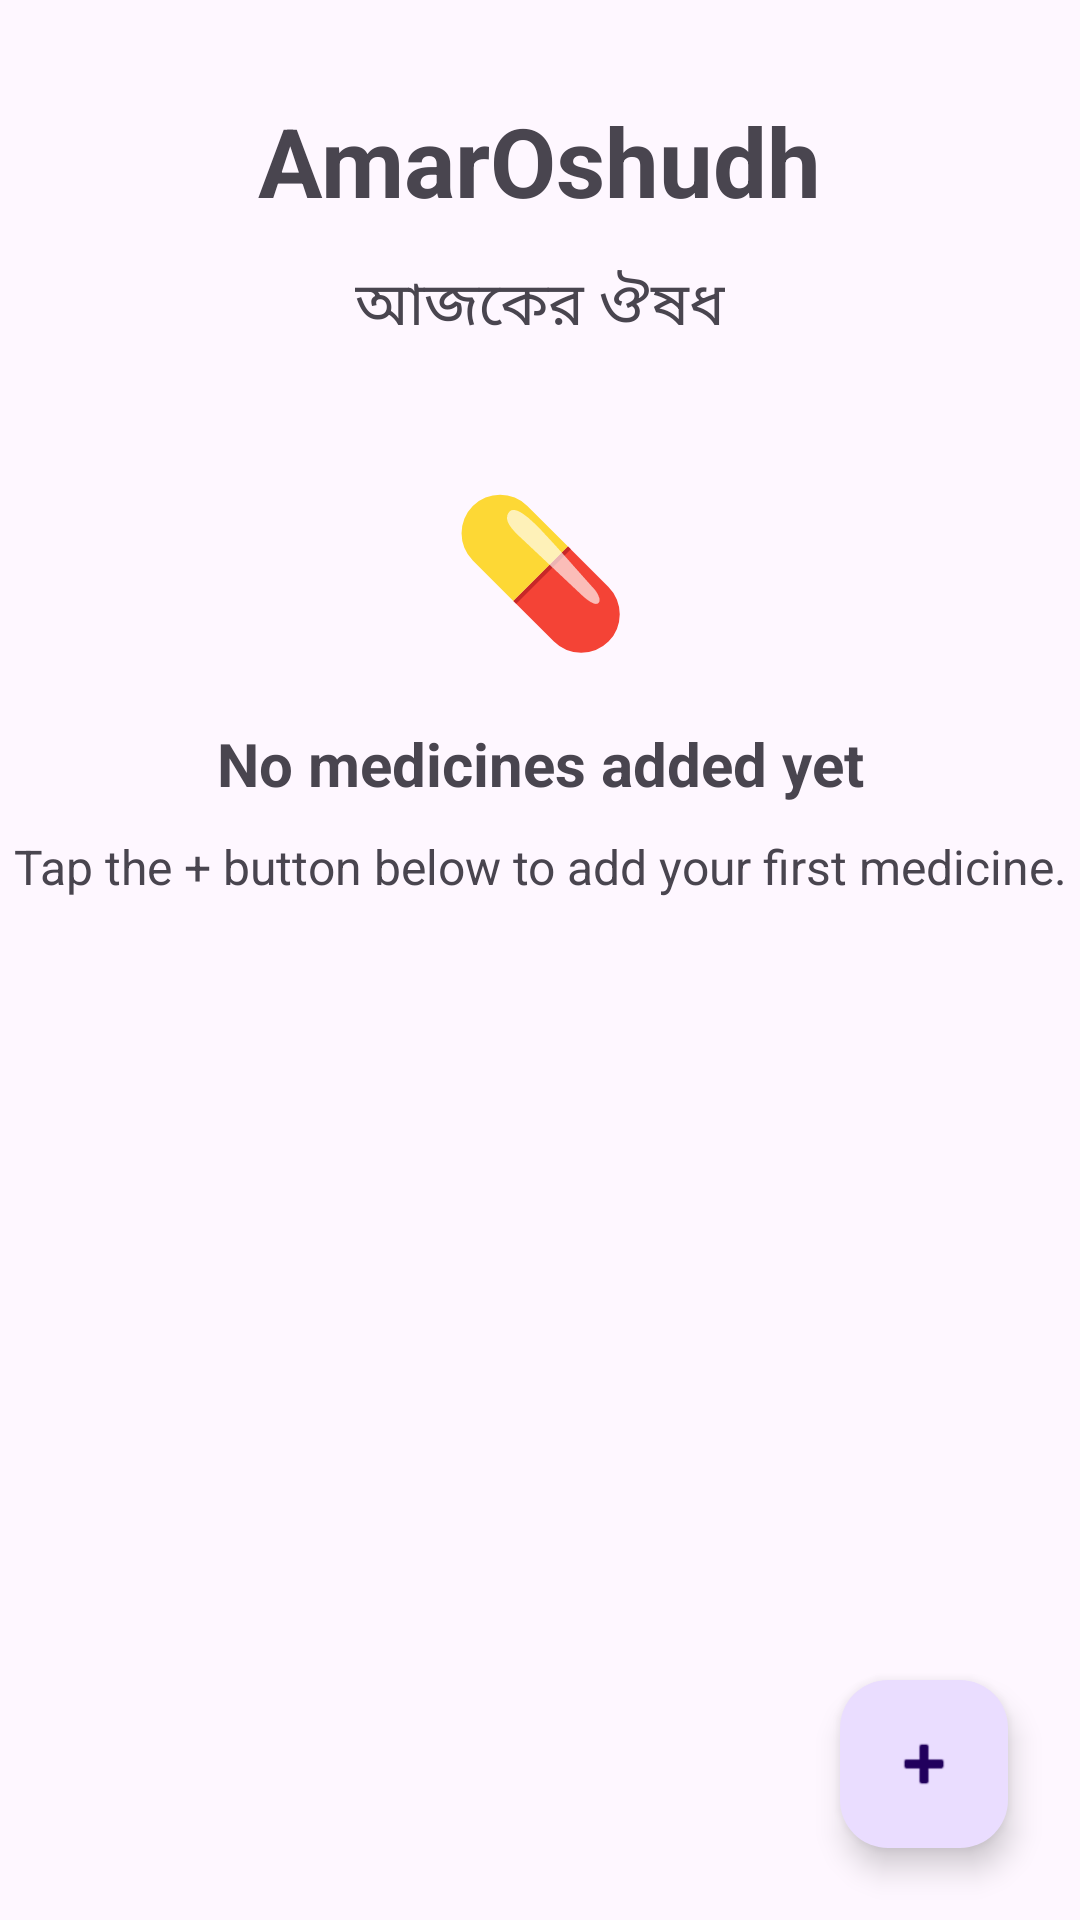

Screen size 1080 × 1920. Icon name, then its box in pixels as BBox(x1, y1, x2, y2):
Add Medicine: BBox(840, 1680, 1008, 1848)
